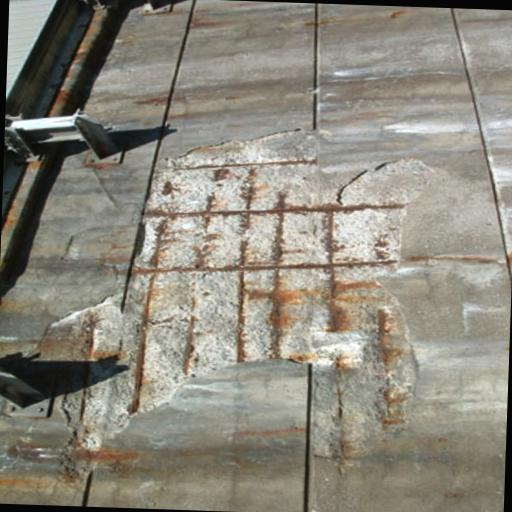spalling: (41, 132, 426, 450)
